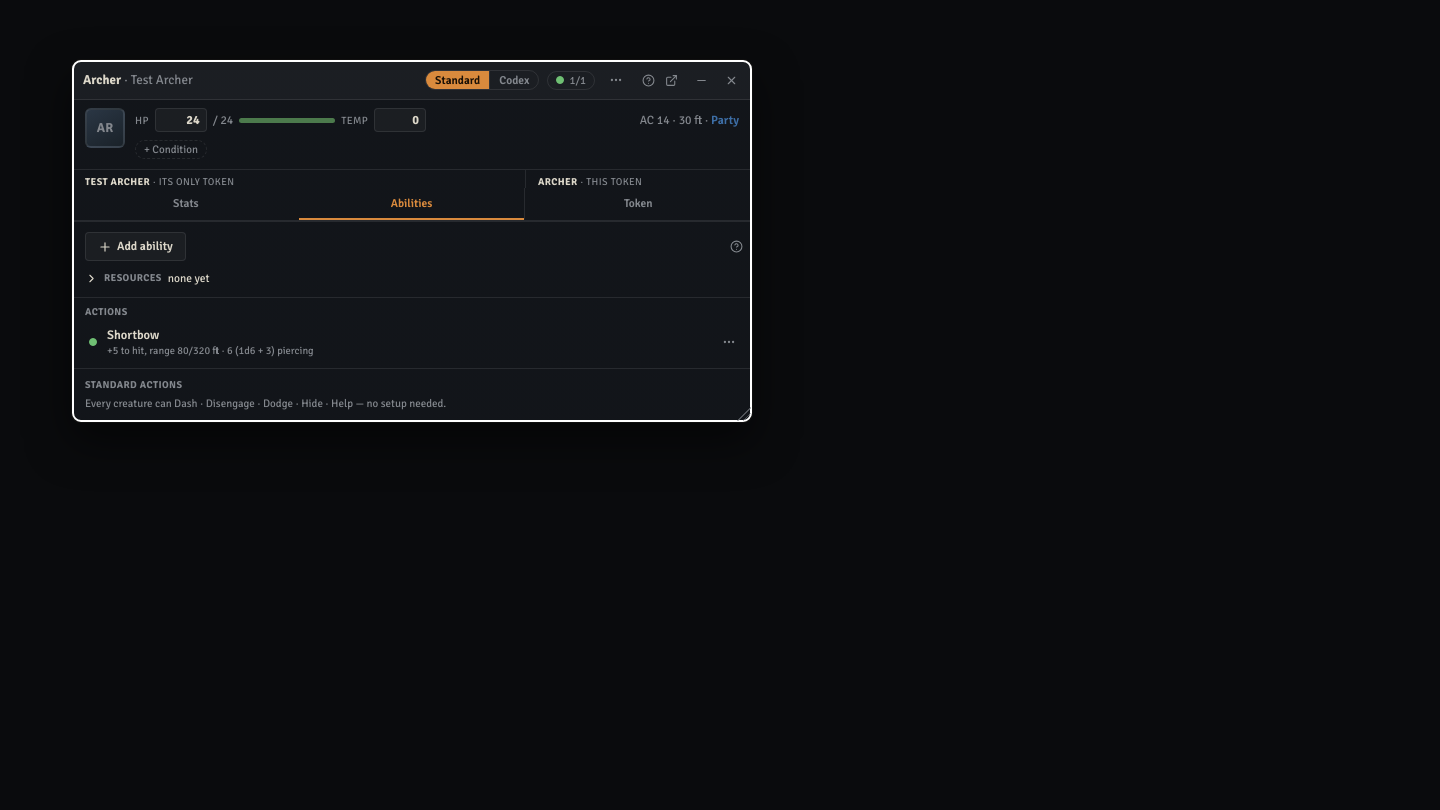
Test: My library on the sheet › opens a multiattack to choose its steps when the creature lacks what they use
Step 1. Click the tab "Abilities" → coordinates (412, 204), box [299,188,524,220]
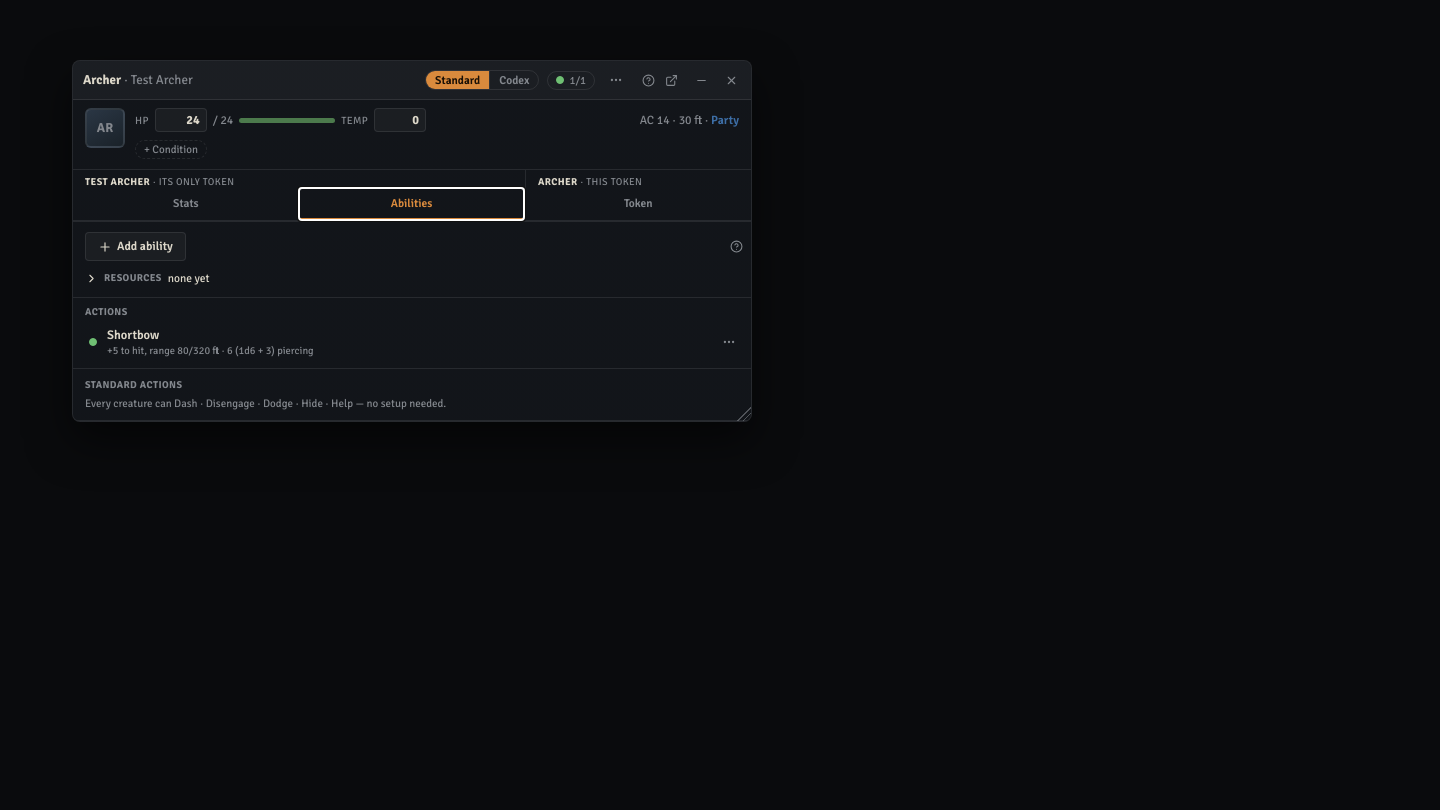
Step 2. Click the button "Add ability" → coordinates (135, 246), box [85,232,186,261]
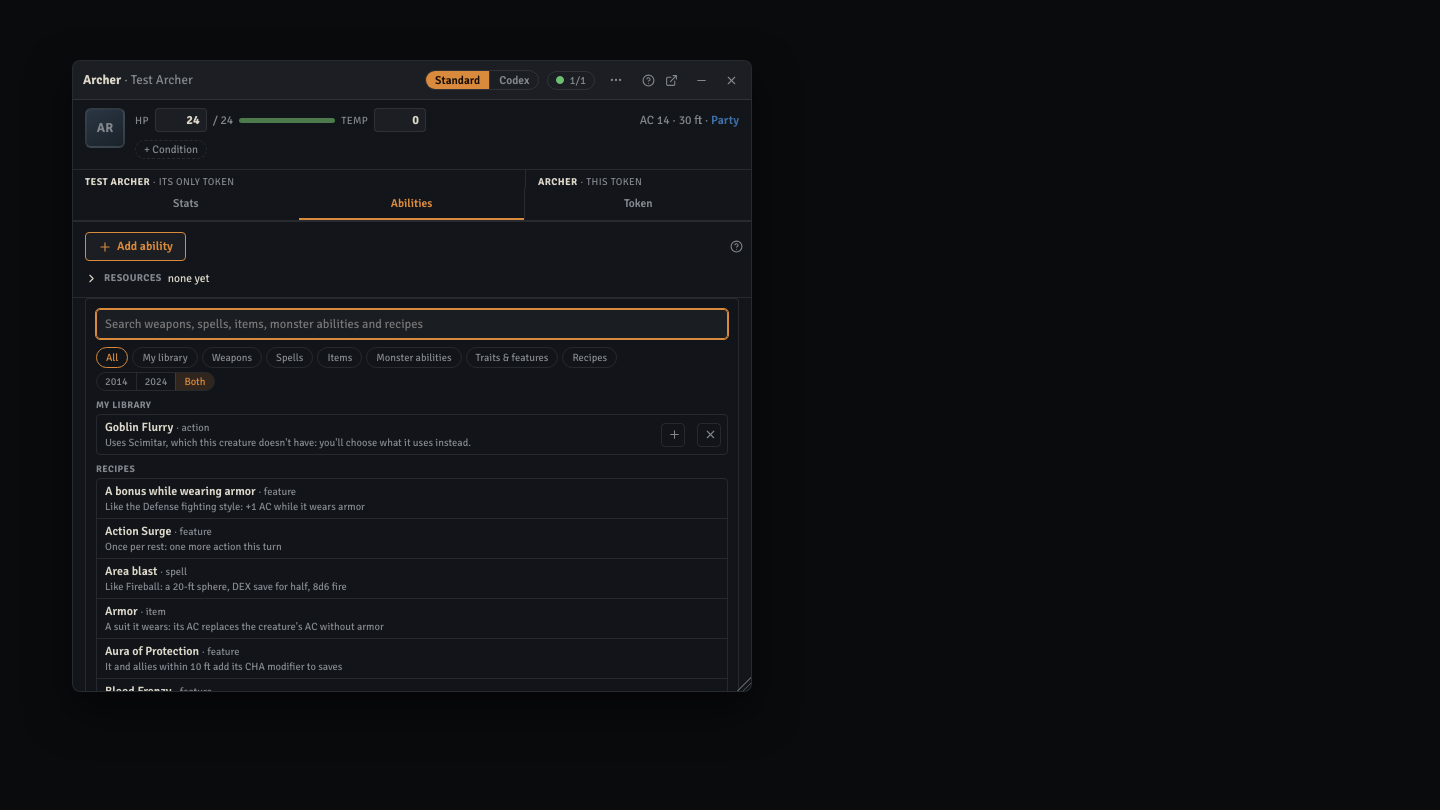
Check: the button "Goblin Flurry" shows "Uses Scimitar, which this creature doesn't have", box [97,415,655,454]
Step 3. Click the button named "Add Goblin Flurry" → coordinates (673, 434), box [661,422,685,446]
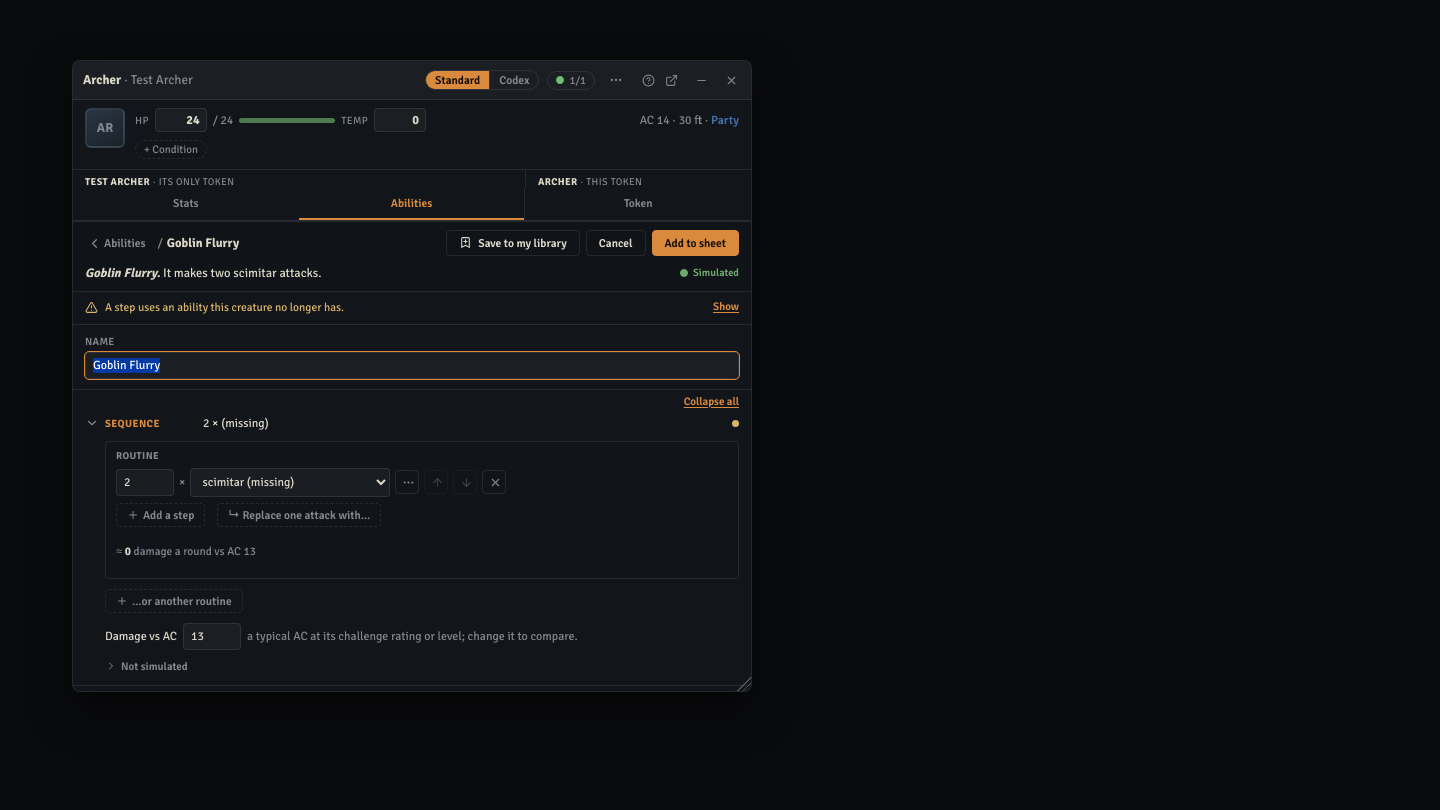
Check: the field labelled "Name" holds "Goblin Flurry", box [85,352,739,379]
Check: the text "A step uses an ability this creature no longer has." is shown, box [105,300,344,314]
